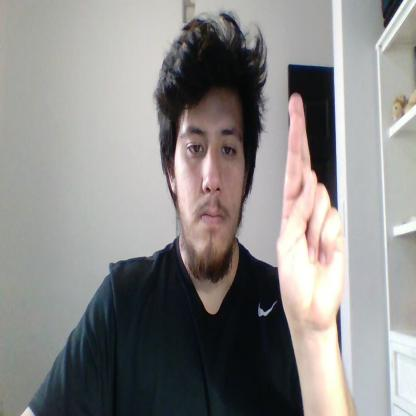R: (277, 93, 346, 326)
